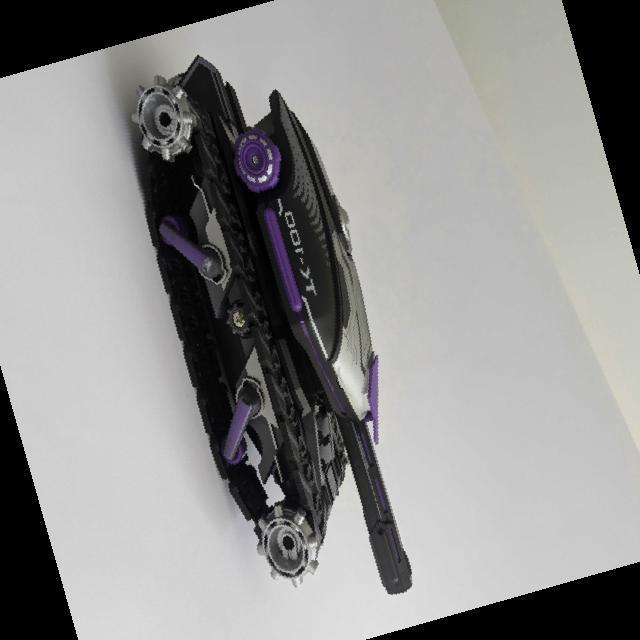barrel: (340, 416, 414, 597)
